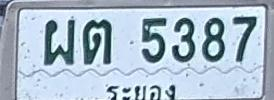3: (172, 17, 195, 63)
5: (142, 17, 166, 63)
7: (232, 16, 256, 62)
8: (202, 17, 225, 62)
A21: (83, 19, 112, 65)
A28: (43, 18, 75, 66)
RYG: (101, 79, 179, 100)
